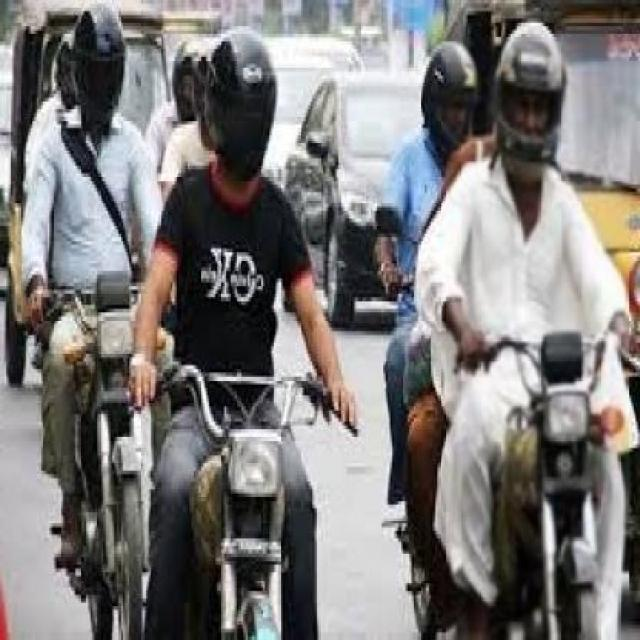helmet: (34, 3, 162, 160), (184, 28, 293, 195), (486, 17, 575, 195)
motorcycle: (152, 32, 385, 640), (413, 25, 640, 640)
